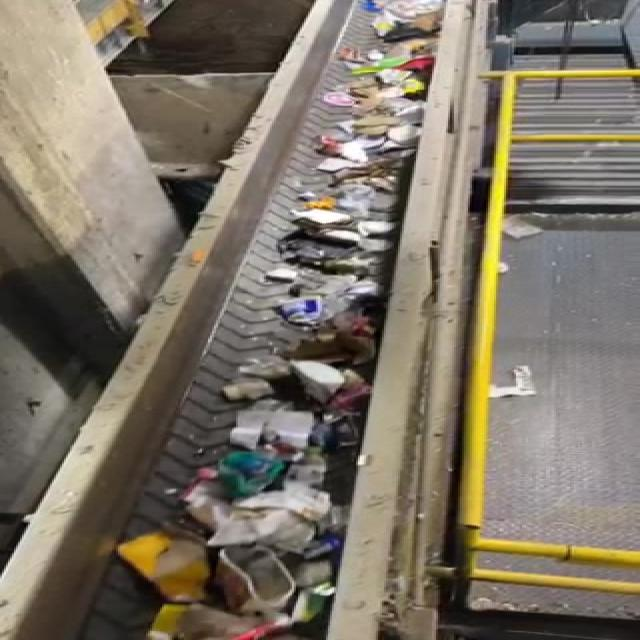paper: (121, 530, 214, 616)
